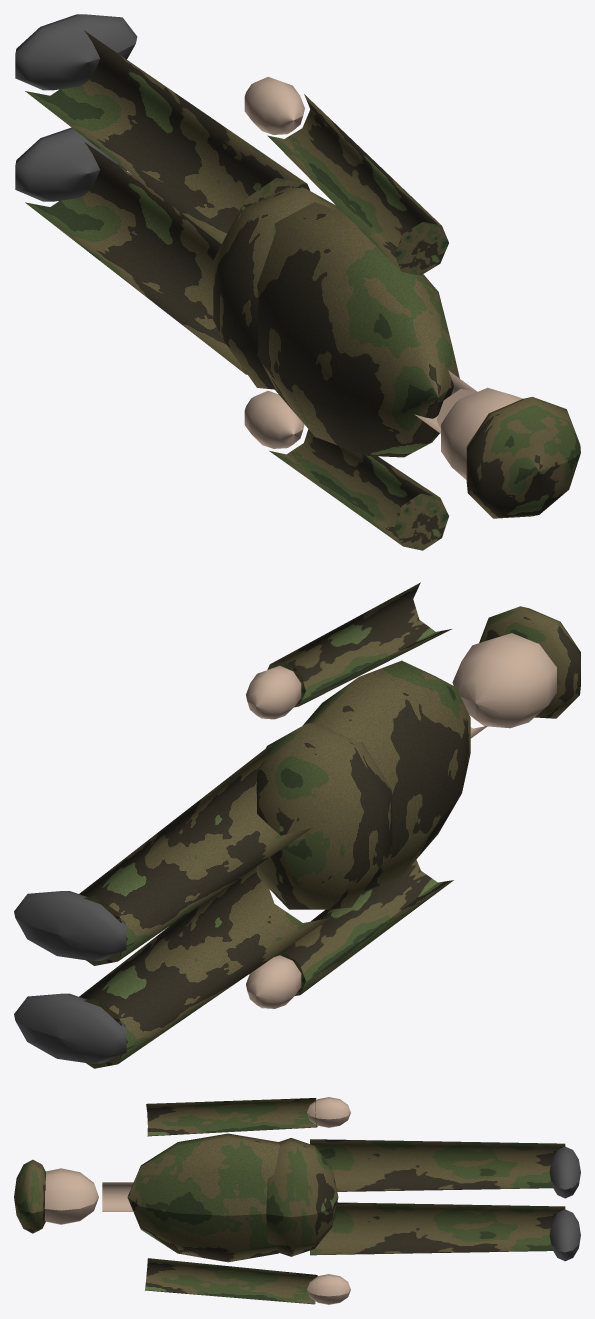
File: person_camo_stand.glb
3 renders of one model, top to bottom at view 1: azimuth 30°, elevation 25°; view 2: azimuth 150°, elevation 25°; view 3: azimuth 270°, elevation 25°, orthographic. The views are drawn at different scales.
Bounding box in the file's own units: 0.321 × 0.7197 × 1.8.
Materials: 3 (1 with a texture image).
